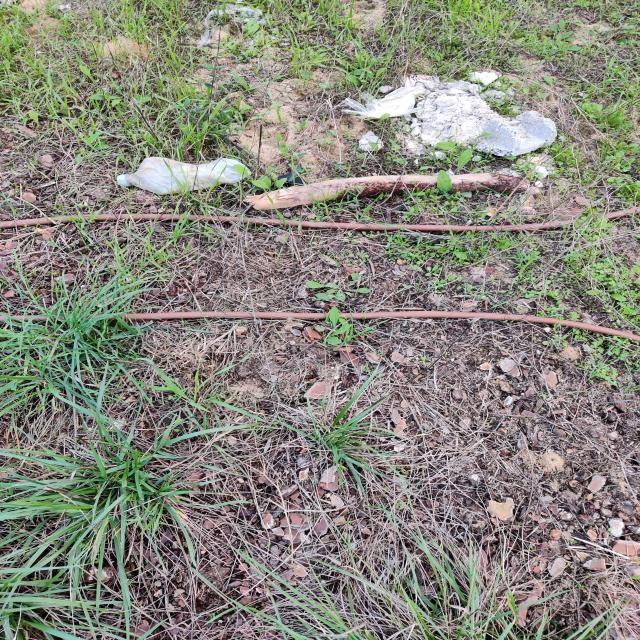litter: (107, 142, 257, 200)
